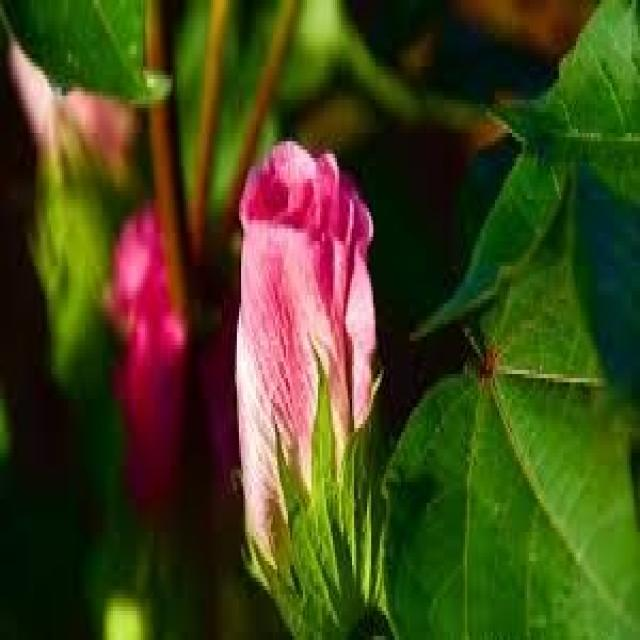Cotton Blossom: (235, 137, 390, 632)
